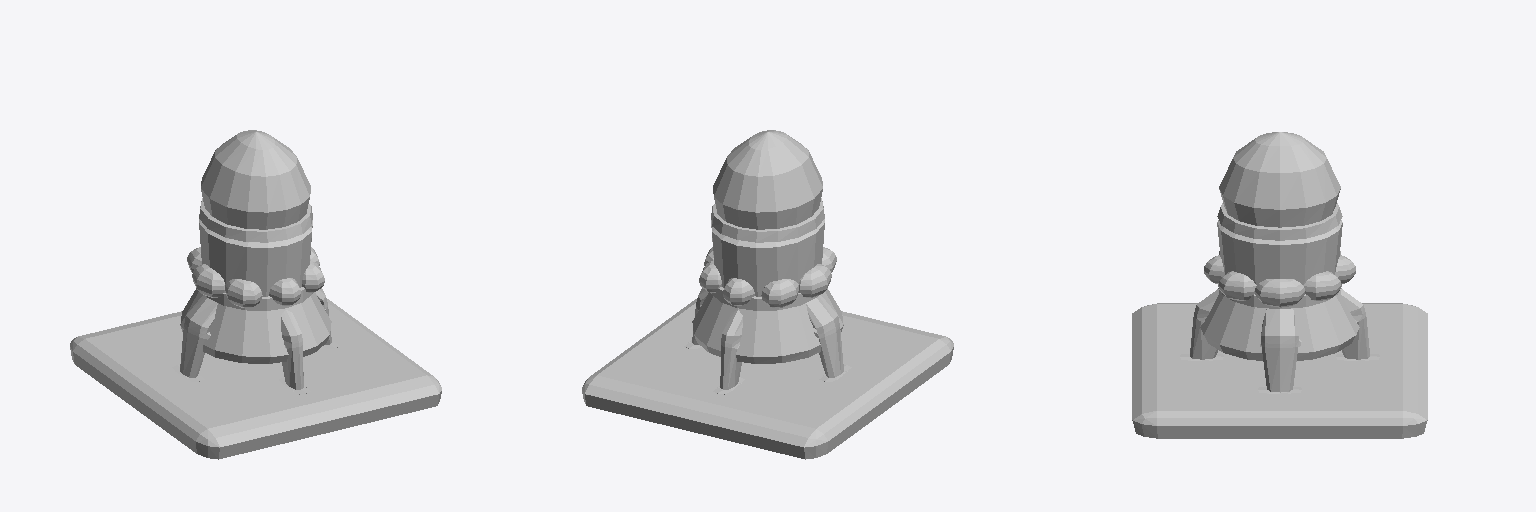
File: roketS.obj
The picture shows the model from 3 angles: view 1: azimuth 30°, elevation 25°; view 2: azimuth 150°, elevation 25°; view 3: azimuth 270°, elevation 25°; orthographic projection.
Parts seen in each view (by area): view 1: Cube.004; view 2: Cube.004; view 3: Cube.004.
Boxes of the visible parts, x1,y1,x2,y2 form: Cube.004: [70, 130, 441, 459]; Cube.004: [582, 130, 953, 459]; Cube.004: [1132, 132, 1427, 438].
Size of the model in its own units: 12.82 by 12.5 by 13.45.